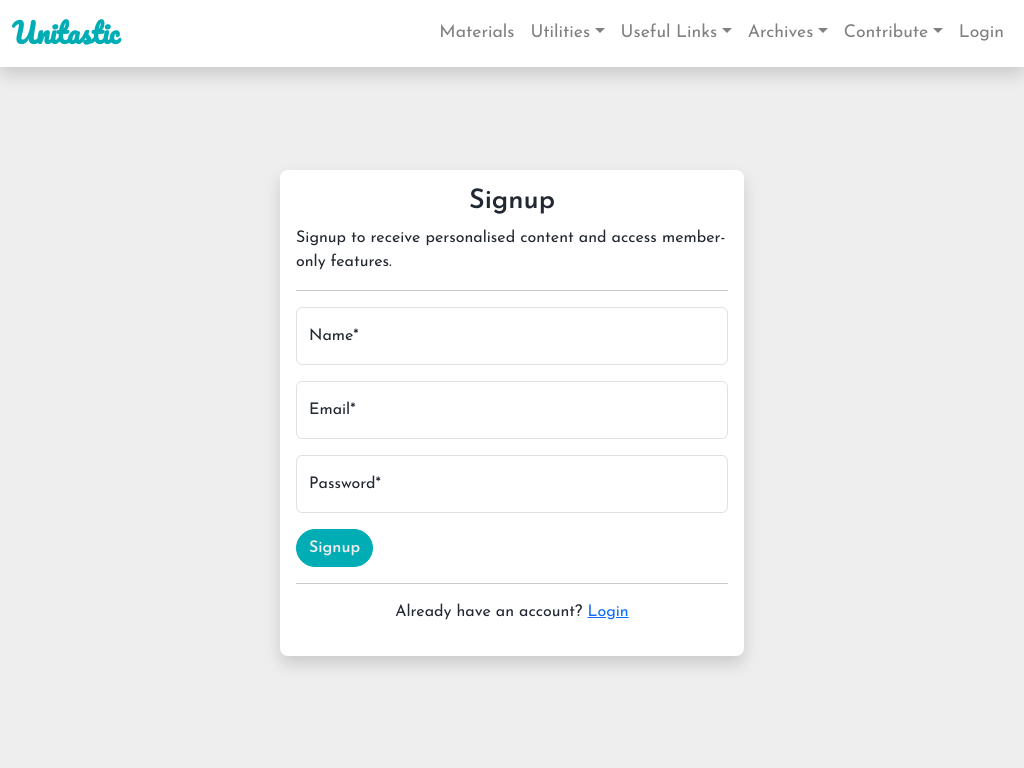
SignupForm Component › handles successful signup
This screenshot has width=1024, height=768.
In the field labelled "Name*": (512, 336) x1=296 y1=307 x2=728 y2=365, type "John Doe"
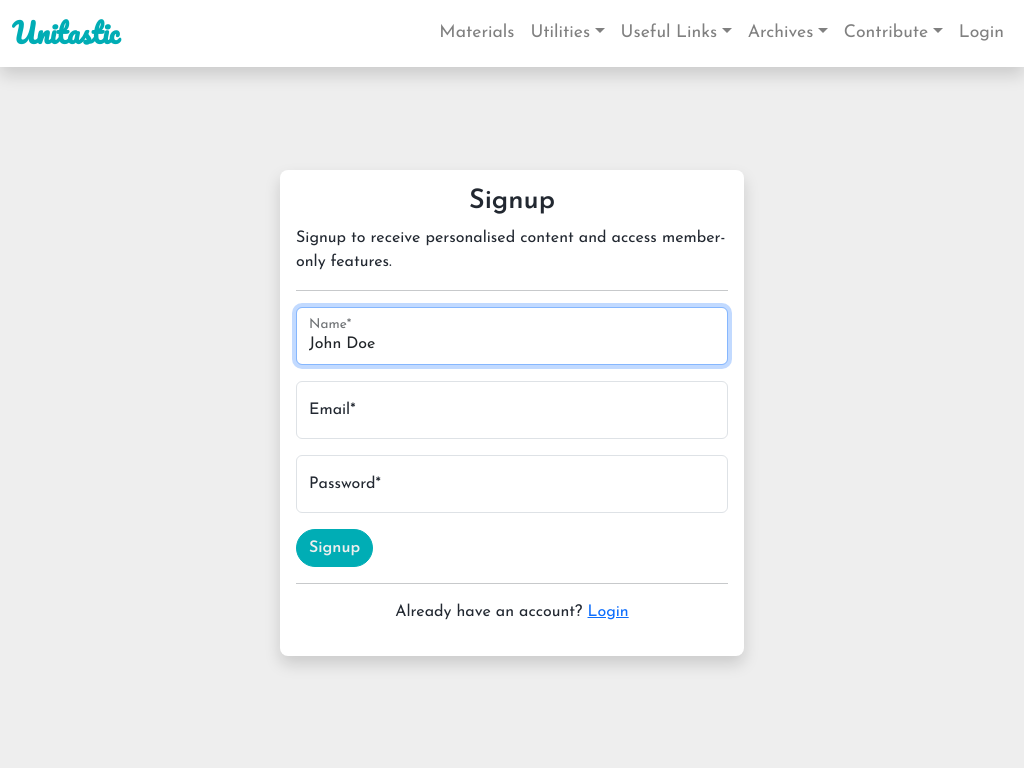
In the field labelled "Email*": (512, 410) x1=296 y1=381 x2=728 y2=439, type "john@example.com"
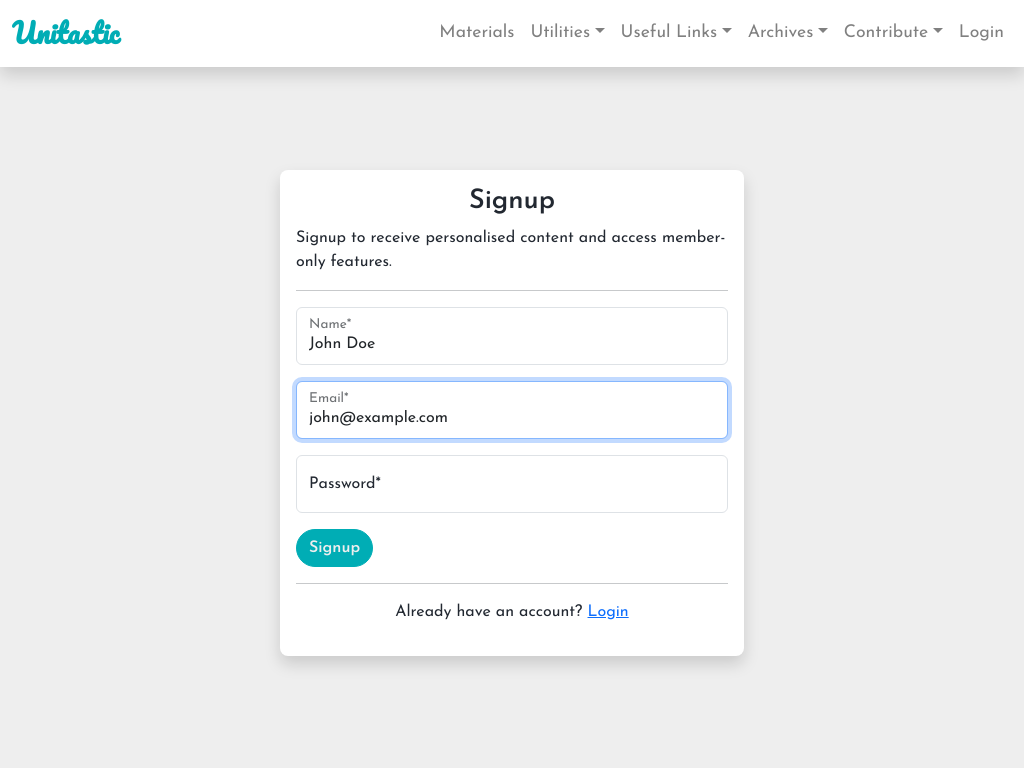
In the password field labelled "Password*": (512, 484) x1=296 y1=455 x2=728 y2=513, type "password123"
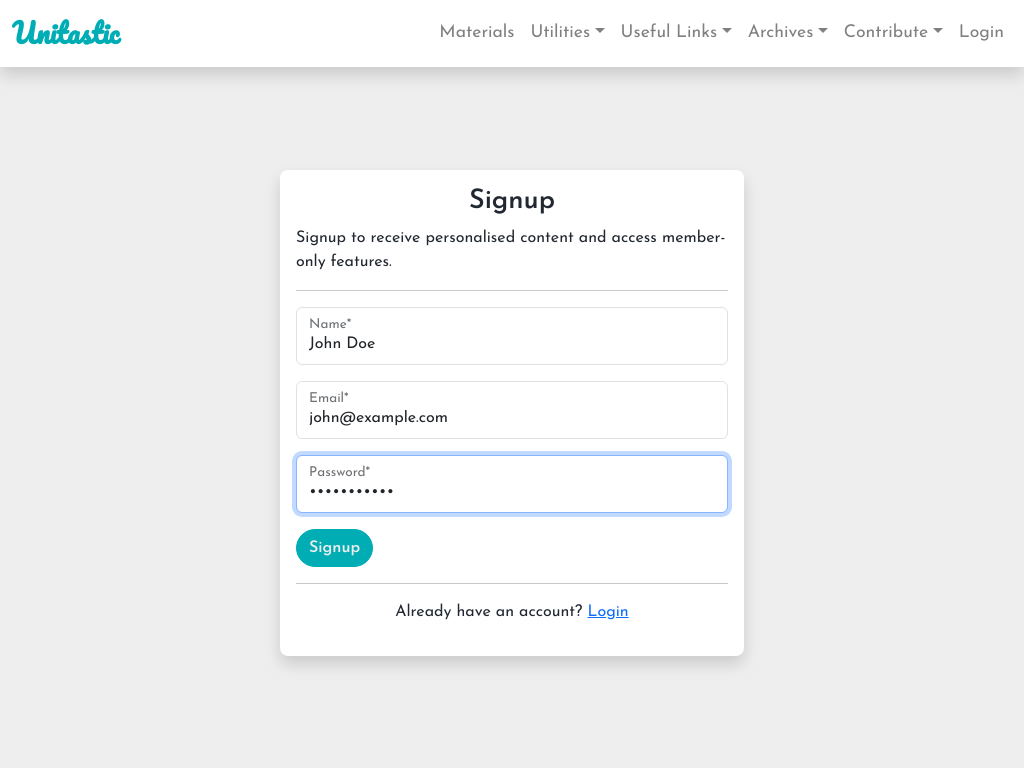
Click the button "Signup": (335, 548) x1=296 y1=529 x2=373 y2=567
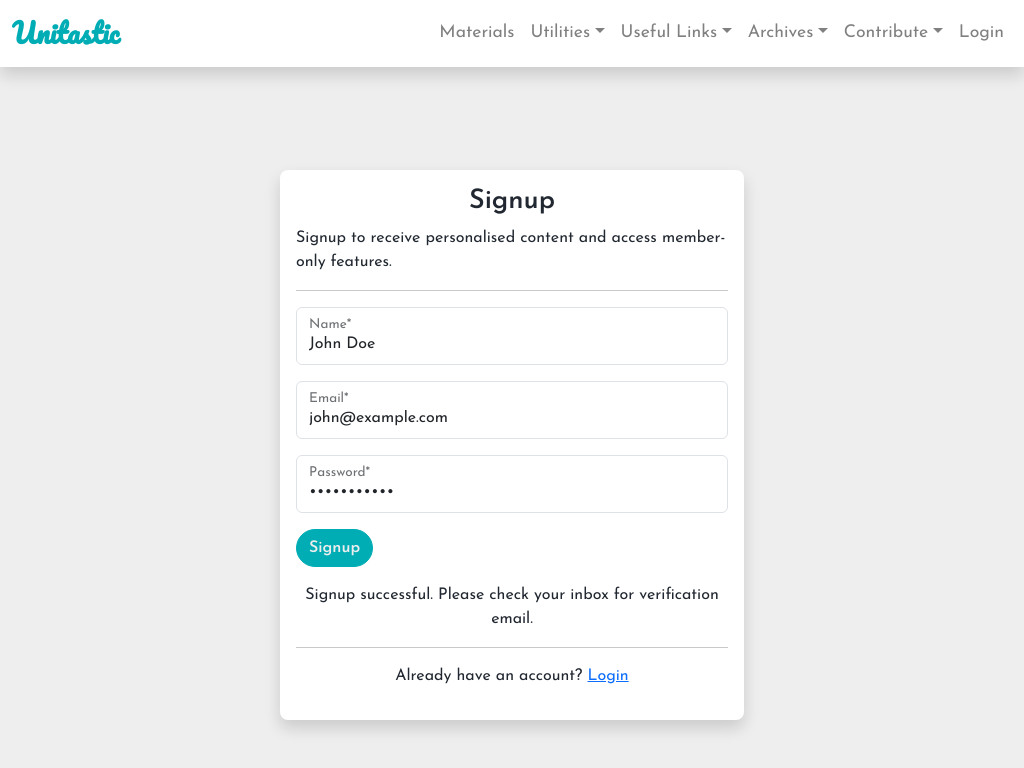
Check: the text "Signup successful. Please check your inbox for verification email." is shown, box x1=296 y1=583 x2=728 y2=631
